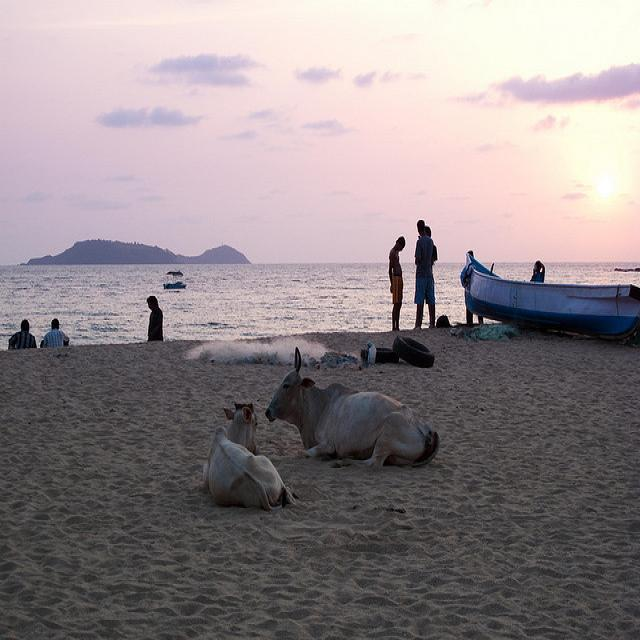cow: (262, 343, 439, 465), (200, 399, 297, 507)
